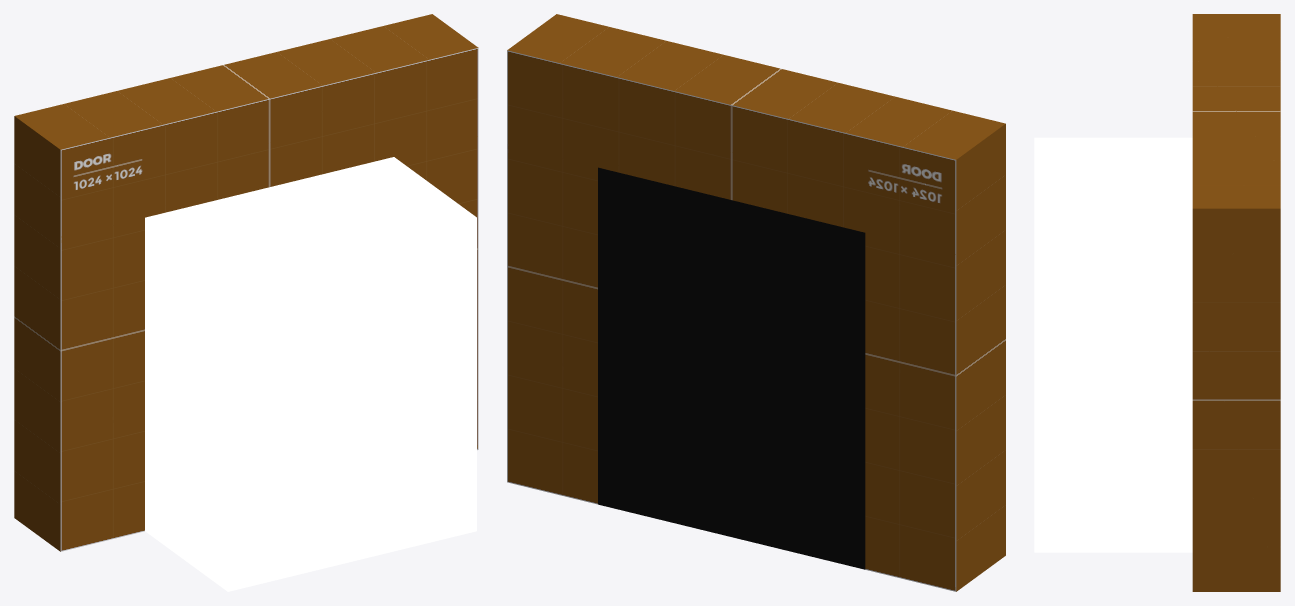
File: door.glb
3 views of the same model, side by side, from view 1: azimuth 30°, elevation 25°; view 2: azimuth 150°, elevation 25°; view 3: azimuth 270°, elevation 25° (orthographic). The views are drawn at different scales.
Parts seen in each view (by area): view 1: door.portal, door.frame-col; view 2: door.frame-col, door.back; view 3: door.portal, door.frame-col.
Part boxes in pixels (x1,y1,x2,y2): door.portal: (145, 157, 476, 591); door.frame-col: (14, 14, 478, 551); door.frame-col: (507, 14, 1005, 591); door.back: (598, 167, 865, 569); door.portal: (1034, 137, 1192, 552); door.frame-col: (1192, 14, 1280, 591).
Bounding box in the file's own units: 4.95 × 4.55 × 2.65.
Materials: 3 (1 with a texture image).
